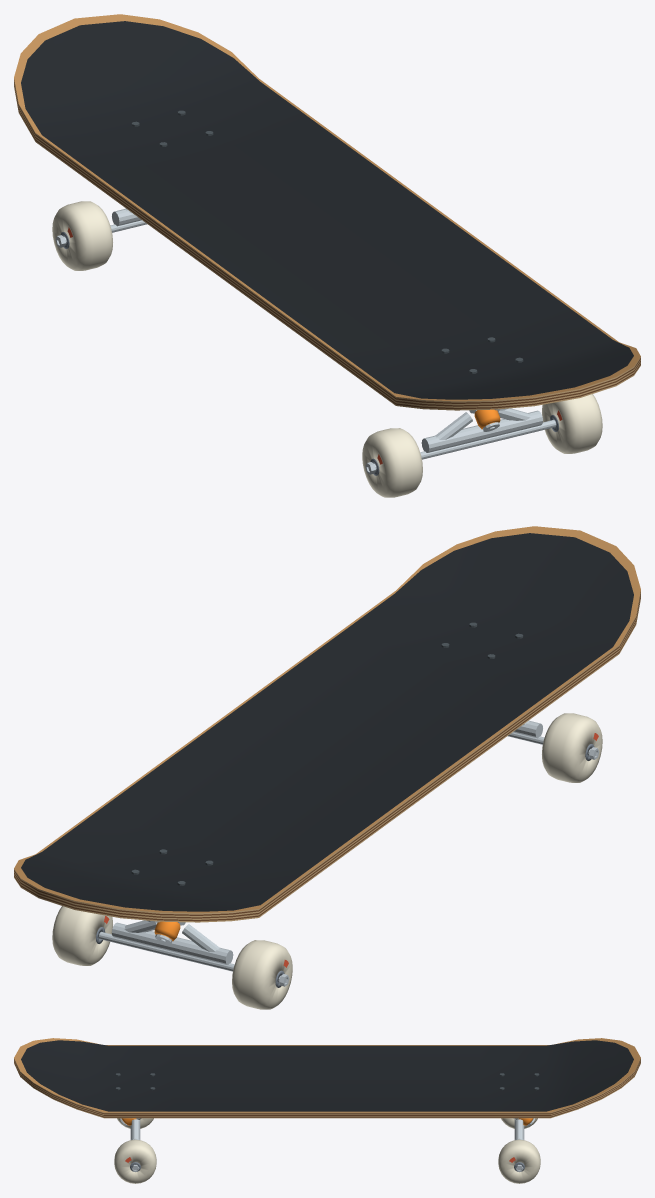
File: skate_board.glb
The picture shows the model from 3 angles, top to bottom: view 1: azimuth 30°, elevation 25°; view 2: azimuth 150°, elevation 25°; view 3: azimuth 270°, elevation 25°; orthographic projection. The views are drawn at different scales.
Parts seen in each view (by area): view 1: deck_grip, deck, wheel_rear_left, wheel_front_left, truck_front_hanger, wheel_front_right; view 2: deck_grip, deck, wheel_front_left, wheel_rear_left, truck_rear_hanger, wheel_rear_right; view 3: deck_grip, deck, wheel_front_right, wheel_rear_right, truck_front_hanger, truck_rear_hanger.
Part boxes in pixels (x1,y1,x2,y2): deck_grip: (21, 21, 633, 399); deck: (14, 14, 640, 410); wheel_rear_left: (52, 201, 112, 270); wheel_front_left: (362, 428, 422, 497); truck_front_hanger: (365, 408, 555, 474); wheel_front_right: (542, 394, 602, 453); deck_grip: (21, 533, 633, 911); deck: (14, 526, 640, 922); wheel_front_left: (542, 713, 602, 782); wheel_rear_left: (232, 940, 292, 1009); truck_rear_hanger: (99, 920, 289, 986); wheel_rear_right: (52, 906, 112, 965); deck_grip: (21, 1040, 633, 1111); deck: (14, 1038, 640, 1118); wheel_front_right: (114, 1139, 156, 1183); wheel_rear_right: (498, 1139, 540, 1183); truck_front_hanger: (130, 1118, 141, 1171); truck_rear_hanger: (513, 1118, 524, 1171).
Size of the model in its own units: 0.208 by 0.1352 by 0.8.
